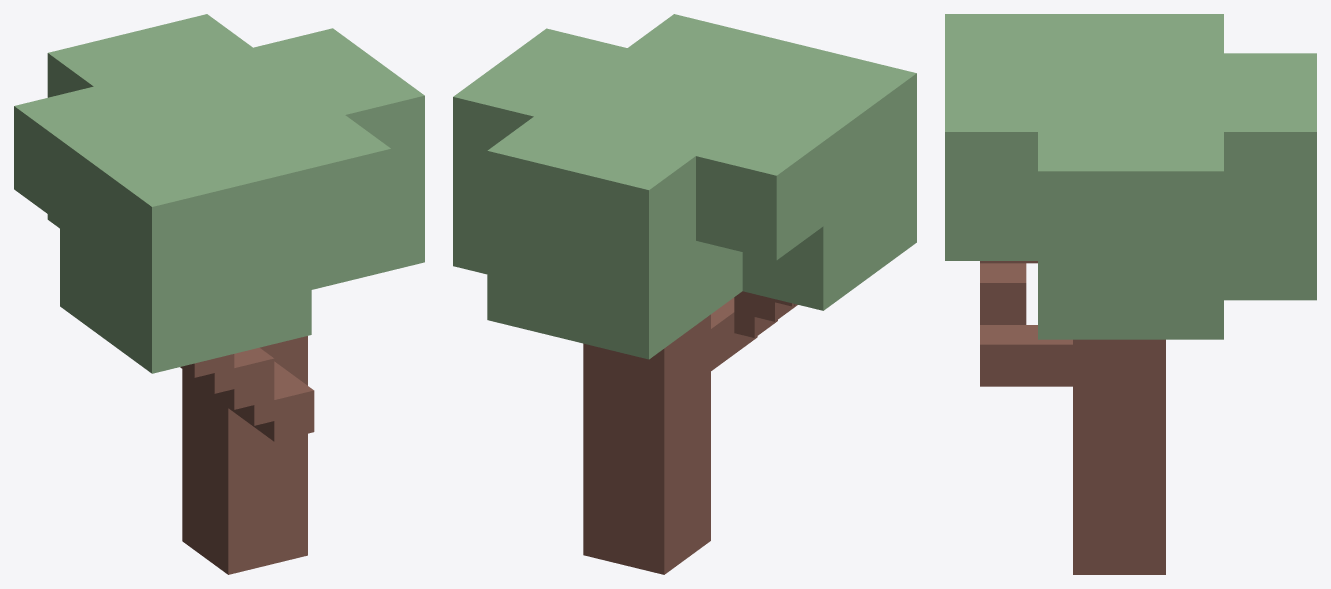
File: Tree.fbx
The picture shows the model from 3 angles, left to right: view 1: azimuth 30°, elevation 25°; view 2: azimuth 150°, elevation 25°; view 3: azimuth 270°, elevation 25°; orthographic projection.
Visible parts, largest first — view 1: cube_23, cube_27, cube, cube_24, cube_25, cube_1, cube_14, cube_21, cube_22, cube_28, cube_18, cube_13 (+14 smaller); view 2: cube_18, cube_22, cube, cube_1, cube_17, cube_19, cube_26, cube_21, cube_16, cube_23, cube_20, cube_2 (+13 smaller); view 3: cube_14, cube_16, cube_19, cube_25, cube, cube_1, cube_13, cube_15, cube_20, cube_2, cube_28, cube_6 (+11 smaller).
Part boxes in pixels (x1,y1,x2,y2): cube_23: (106, 154, 231, 290); cube_27: (106, 257, 231, 373); cube: (182, 458, 307, 574); cube_24: (186, 134, 311, 270); cube_25: (266, 115, 391, 251); cube_1: (182, 375, 307, 491); cube_14: (299, 62, 424, 186); cube_21: (60, 120, 185, 256); cube_22: (14, 86, 139, 222); cube_28: (231, 251, 311, 354); cube_18: (47, 33, 172, 97); cube_13: (345, 179, 424, 281); cube_18: (568, 136, 695, 274); cube_22: (696, 122, 823, 260); cube: (583, 456, 710, 574); cube_1: (583, 372, 710, 490); cube_17: (568, 241, 695, 359); cube_19: (487, 116, 614, 254); cube_26: (742, 192, 870, 310); cube_21: (743, 87, 870, 225); cube_16: (453, 62, 580, 189); cube_23: (790, 53, 916, 191); cube_20: (487, 235, 568, 339); cube_2: (583, 314, 710, 405); cube_14: (1038, 132, 1130, 255); cube_16: (1131, 132, 1223, 255); cube_19: (1224, 92, 1316, 215); cube_25: (945, 92, 1037, 215); cube: (1073, 490, 1165, 574); cube_1: (1073, 406, 1165, 490); cube_13: (1038, 255, 1130, 339); cube_15: (1131, 255, 1223, 339); cube_20: (1224, 216, 1316, 300); cube_2: (1073, 339, 1165, 406); cube_28: (945, 216, 1037, 260); cube_6: (1038, 53, 1130, 92).
Bounding box in the file's own units: 200 × 269 × 200.
Materials: 1 (1 with a texture image).
